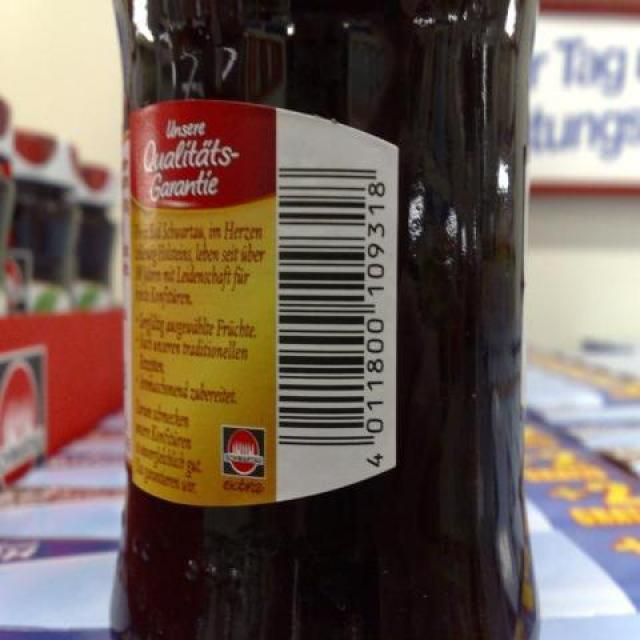Barcode: (270, 156, 389, 476)
